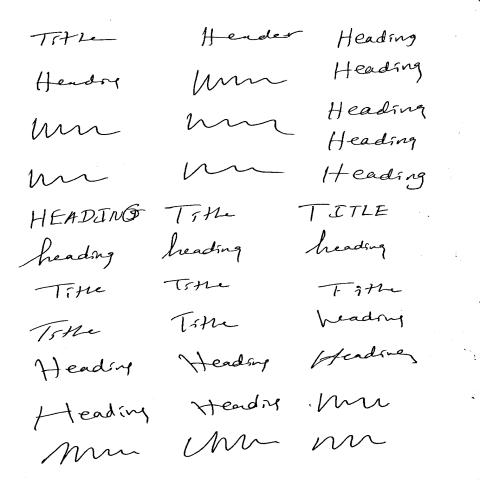Heading: (30, 401, 149, 432), (29, 202, 146, 229), (18, 236, 114, 268), (321, 162, 426, 190), (181, 430, 283, 458), (184, 110, 292, 135), (310, 345, 418, 370), (36, 440, 140, 465), (190, 70, 289, 96), (34, 355, 132, 381), (199, 25, 305, 47), (160, 233, 241, 261), (304, 230, 387, 257), (187, 394, 282, 417), (28, 118, 122, 141), (35, 69, 120, 94), (333, 60, 425, 83), (176, 350, 270, 372), (182, 160, 284, 180), (326, 130, 419, 151), (314, 392, 393, 415), (327, 100, 426, 118), (308, 431, 388, 453), (336, 27, 418, 48), (29, 318, 100, 342), (27, 29, 115, 48), (297, 203, 389, 221), (315, 308, 404, 326), (28, 169, 109, 188), (316, 281, 404, 298), (169, 311, 237, 332), (163, 204, 233, 223), (33, 282, 104, 298), (162, 277, 231, 291)
